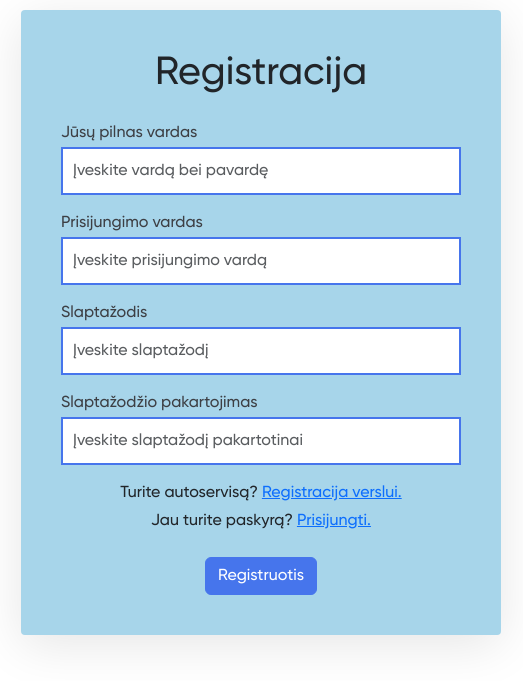
Test: Unit tests › shows error on blur, when passwords are not the same
In the password field named "Slaptažodis": (261, 351) 61,327 -> 461,375, type "password"
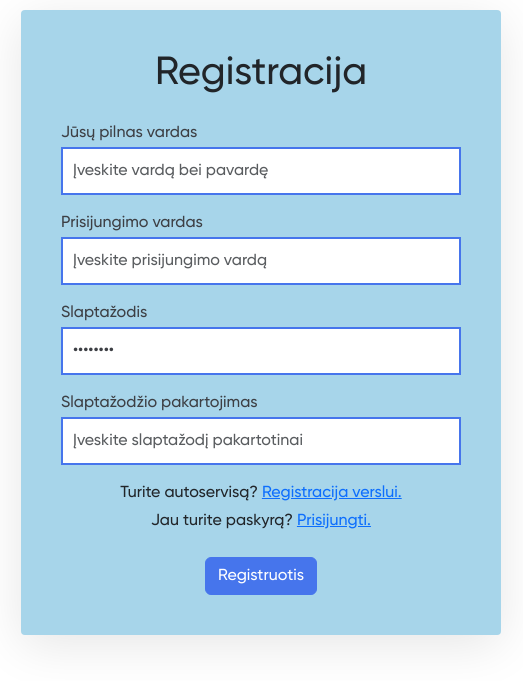
In the password field named "Slaptažodžio pakartojimas": (261, 441) 61,417 -> 461,465, type "password123"
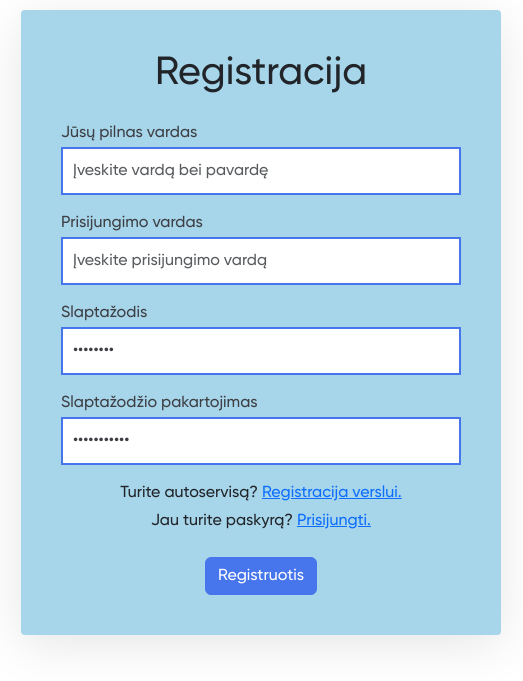
Leave the password field named "Slaptažodžio pakartojimas", box 61,417 -> 461,465
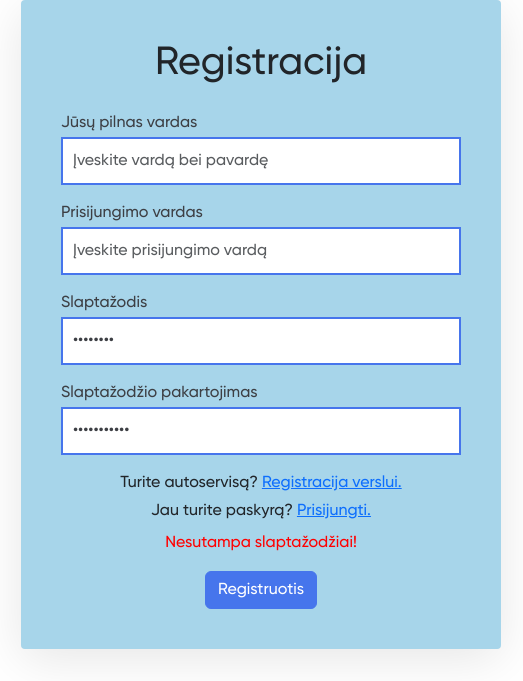
Result: the text "Nesutampa slaptažodžiai!" is shown at 165,535 -> 357,551
